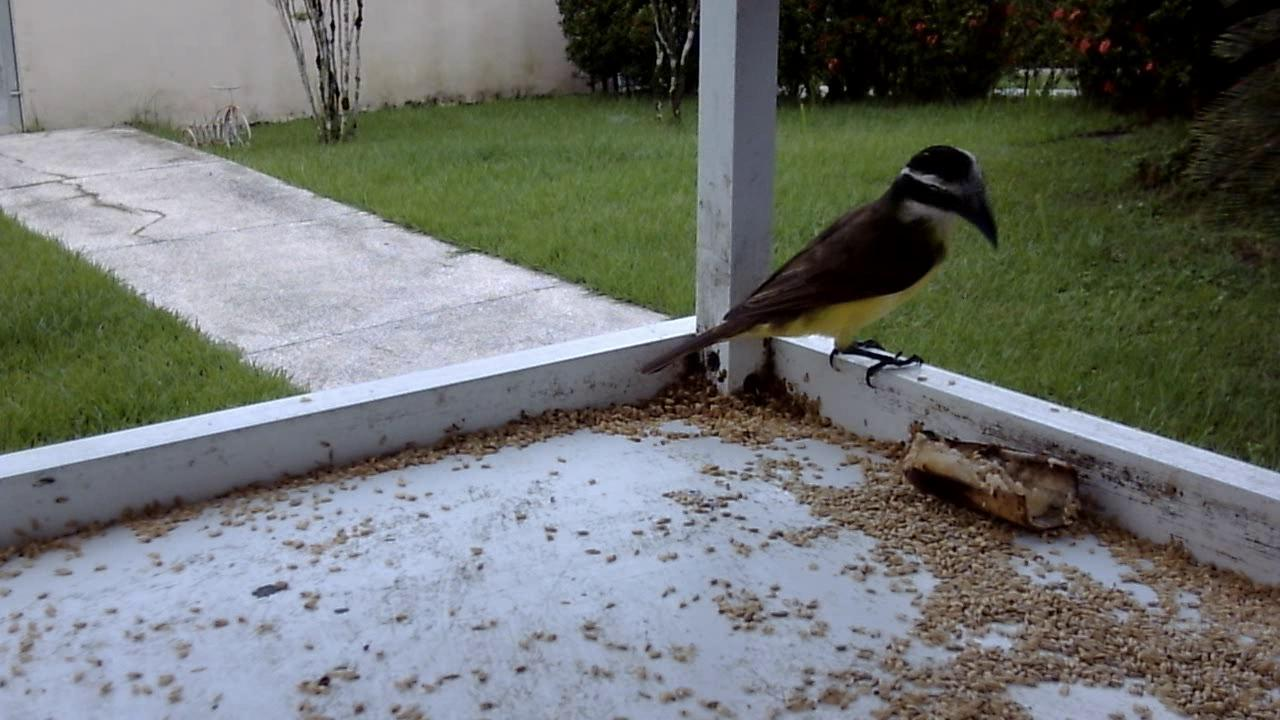bem_te_vi: (630, 144, 999, 403)
